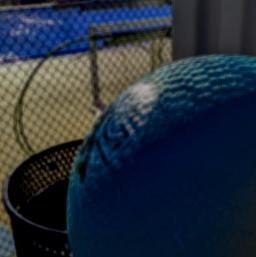algae: (59, 49, 256, 257)
